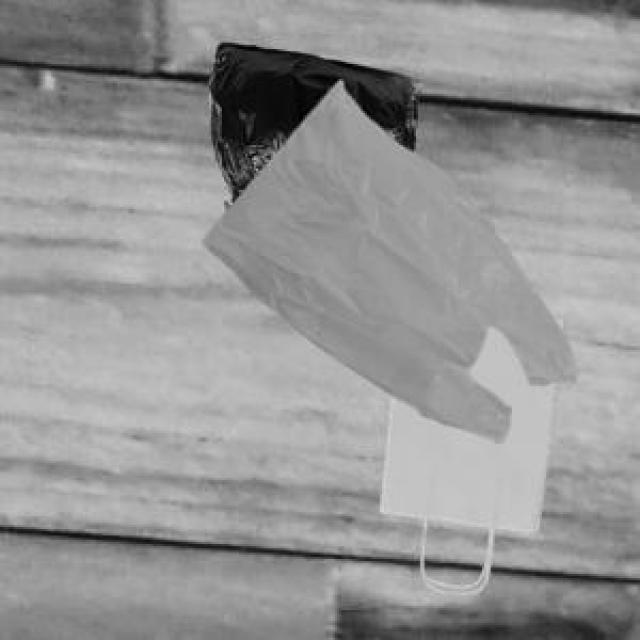miscellaneous trash: (205, 38, 418, 207)
paper: (376, 316, 561, 587)
